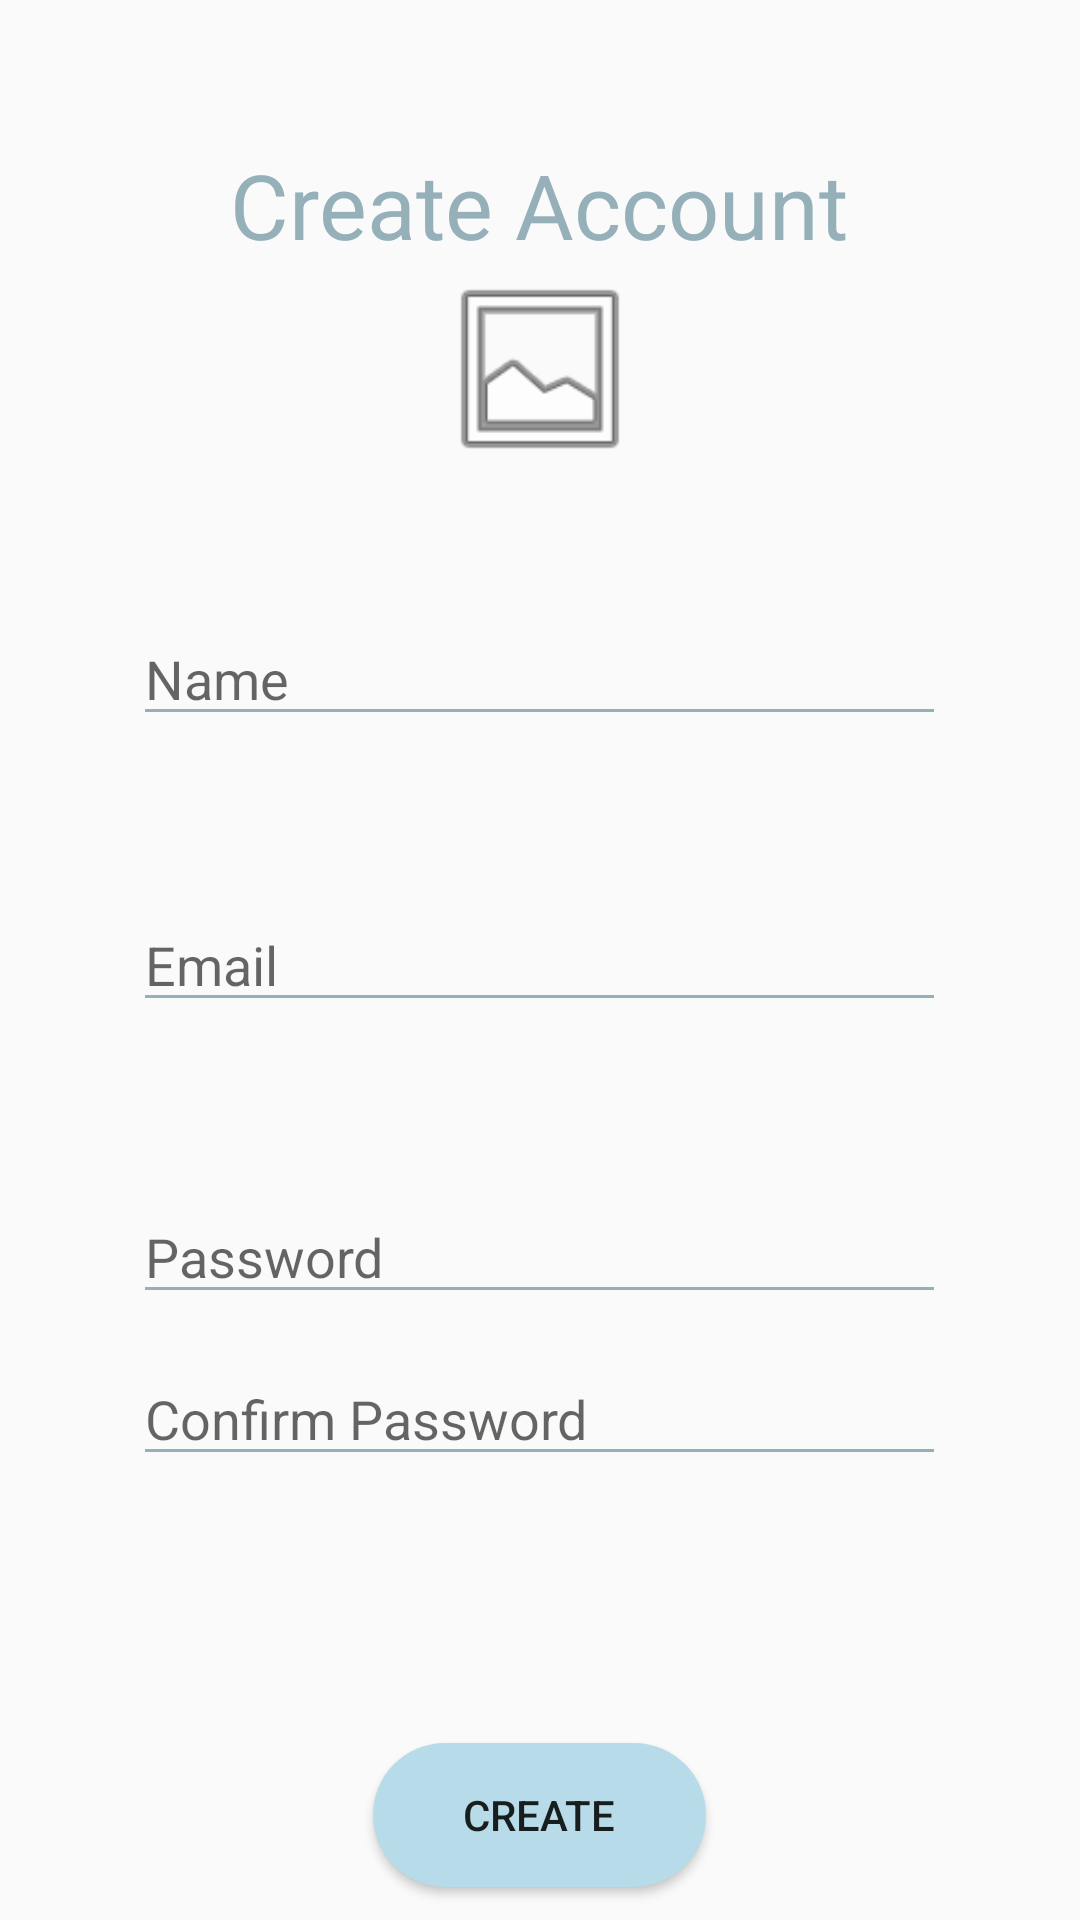

Icons on this 1080x1920 Android screen, each with its box as (left=x1, top=y1, right=x2, bottom=y2):
gallery: (left=461, top=290, right=619, bottom=448)
